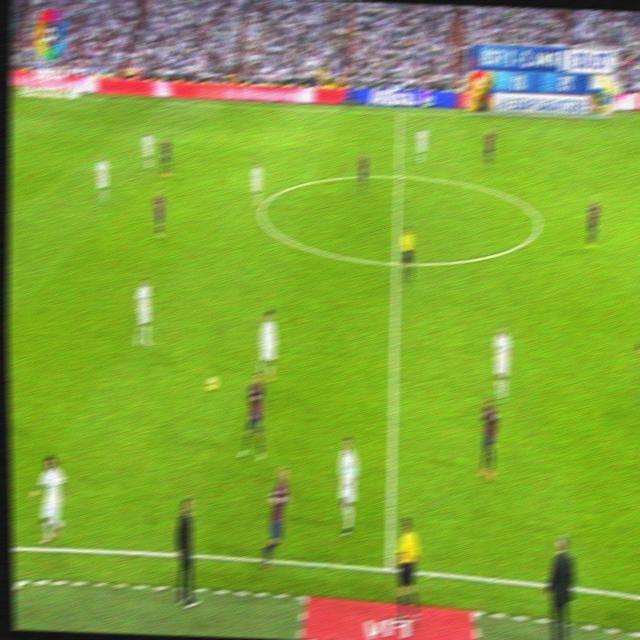halfcircle_bottom: (388, 249, 403, 273)
halfcircle_top: (390, 165, 405, 185)
midline_bottom_intersection: (380, 554, 398, 578)
midline_top_intersection: (394, 105, 404, 118)
